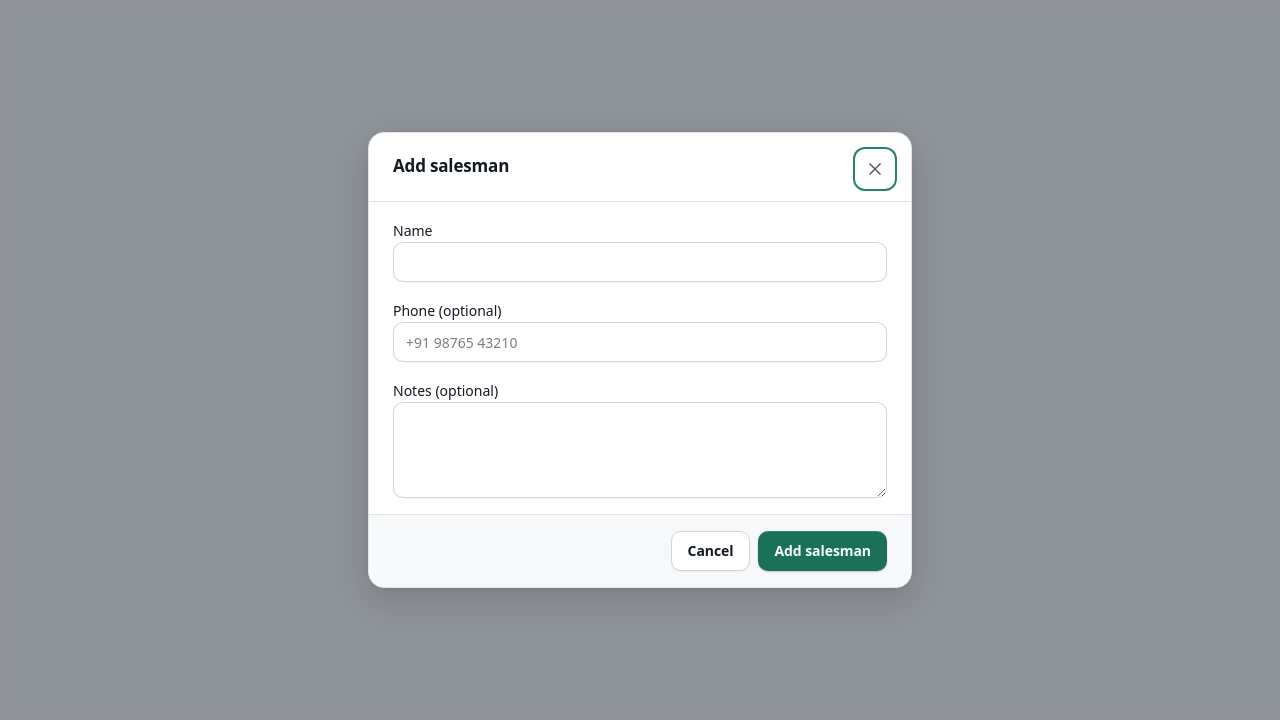
it: SalesmanFormDialog › validates required name and phone format before sending anything
Step 1. Type "call me" into the field labelled "Phone (optional)" → (640, 342), box [393,322,887,362]
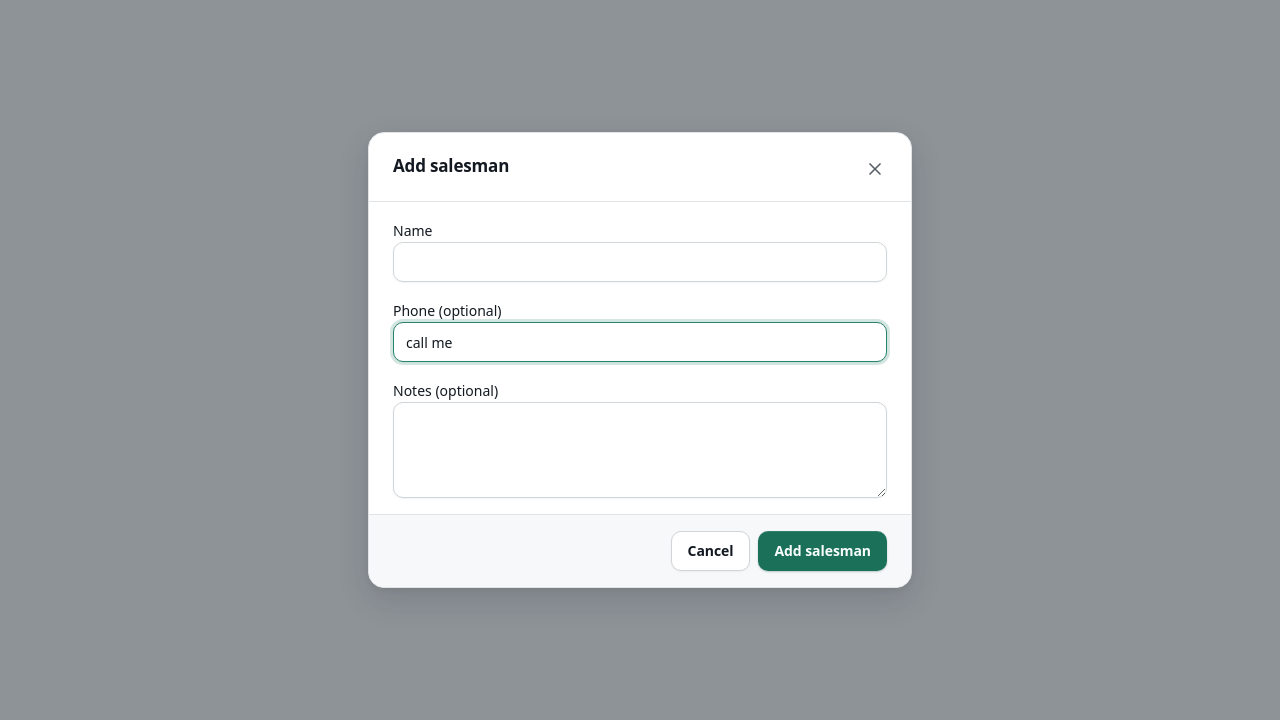
Step 2. Click the button "Add salesman" → (823, 551), box [758,531,887,571]
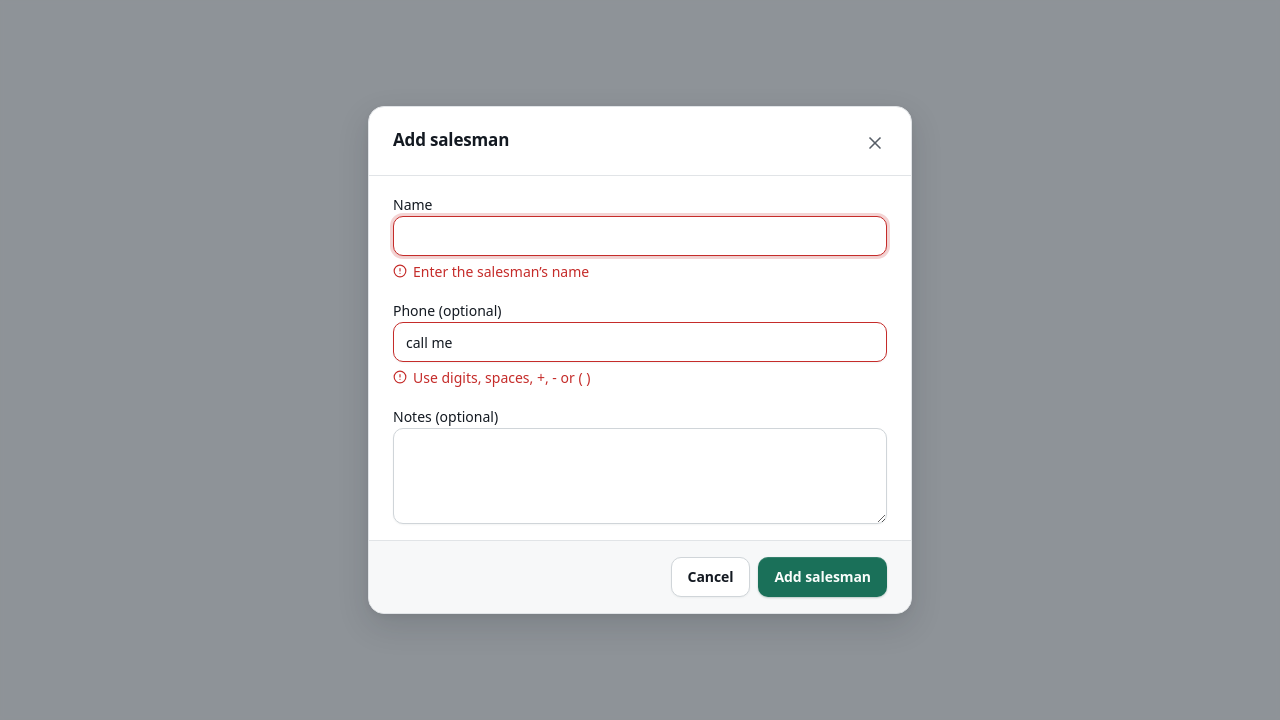
expect the text "Enter the salesman’s name" is shown: met, box [413,262,589,282]
expect the text "Use digits, spaces, +, - or ( )" is shown: met, box [413,368,590,388]
